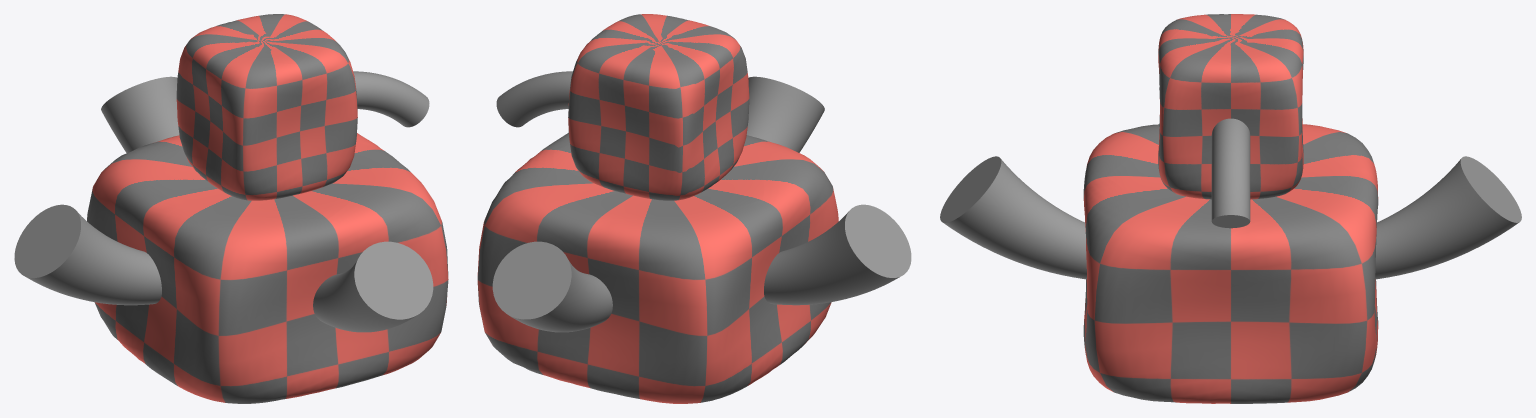
3 views of the same model, side by side, from view 1: azimuth 30°, elevation 25°; view 2: azimuth 150°, elevation 25°; view 3: azimuth 270°, elevation 25° (orthographic). The views are drawn at different scales.
Visible parts, largest first — view 1: Box001, Box002, Cone004, Cone002, Cone003, Cone001; view 2: Box001, Box002, Cone004, Cone003, Cone002, Cone001; view 3: Box001, Box002, Cone002, Cone003, Cone001.
Boxes of the visible parts, <box> form: Box001: <box>87,133,448,403</box>; Box002: <box>176,14,357,200</box>; Cone004: <box>14,204,161,305</box>; Cone002: <box>313,241,433,332</box>; Cone003: <box>101,76,179,152</box>; Cone001: <box>353,71,429,127</box>; Box001: <box>477,133,838,403</box>; Box002: <box>568,14,749,200</box>; Cone004: <box>764,204,911,305</box>; Cone003: <box>492,241,612,332</box>; Cone002: <box>746,76,824,152</box>; Cone001: <box>496,71,572,127</box>; Box001: <box>1083,124,1378,403</box>; Box002: <box>1158,14,1303,199</box>; Cone002: <box>940,156,1086,279</box>; Cone003: <box>1375,156,1521,279</box>; Cone001: <box>1211,118,1250,228</box>.
Bounding box in the file's own units: 49.73 × 35.82 × 60.35.
Materials: 2 (1 with a texture image).
